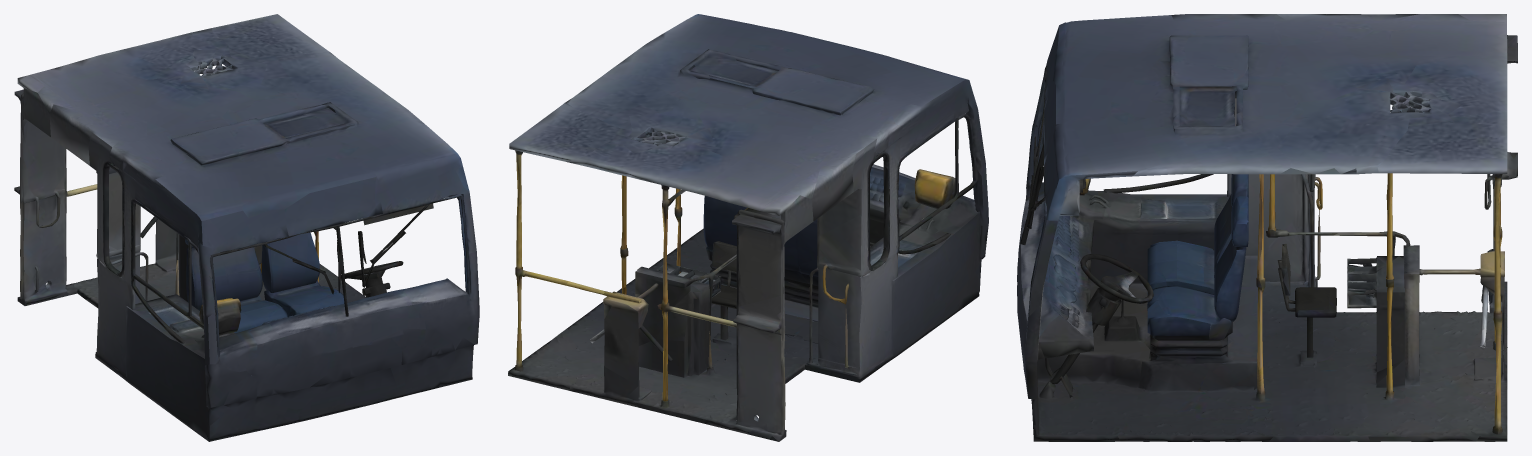
Rendered from int_onibus.glb.
The picture shows the model from 3 angles, left to right: view 1: azimuth 30°, elevation 25°; view 2: azimuth 150°, elevation 25°; view 3: azimuth 270°, elevation 25°; orthographic projection. The views are drawn at different scales.
Parts seen in each view (by area): view 1: veiculo; view 2: veiculo; view 3: veiculo.
Boxes of the visible parts, x1=… form: veiculo: x1=14, y1=14, x2=479, y2=441; veiculo: x1=508, y1=14, x2=988, y2=441; veiculo: x1=1017, y1=14, x2=1517, y2=441.
Size of the model in its own units: 2.5 by 2.03 by 3.3.
Materials: 1 (1 with a texture image).
